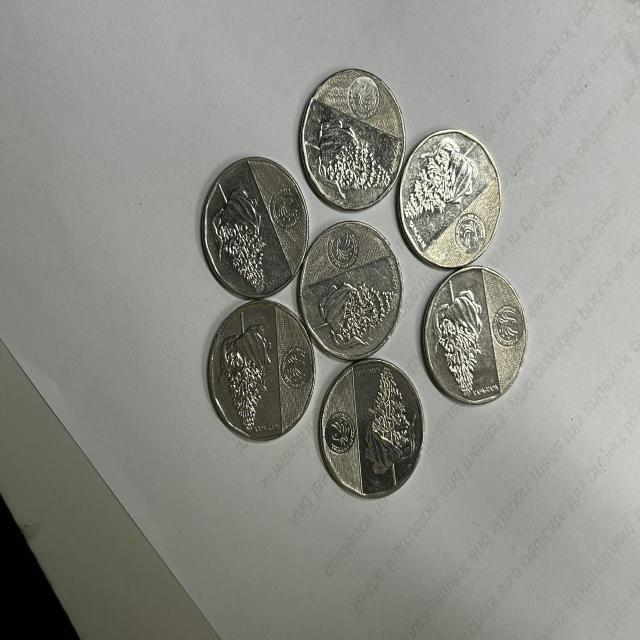10_New_Back: (313, 106, 393, 197), (437, 283, 497, 398), (206, 178, 265, 292), (308, 274, 394, 348), (405, 134, 480, 214), (226, 310, 272, 430), (362, 361, 408, 475)
